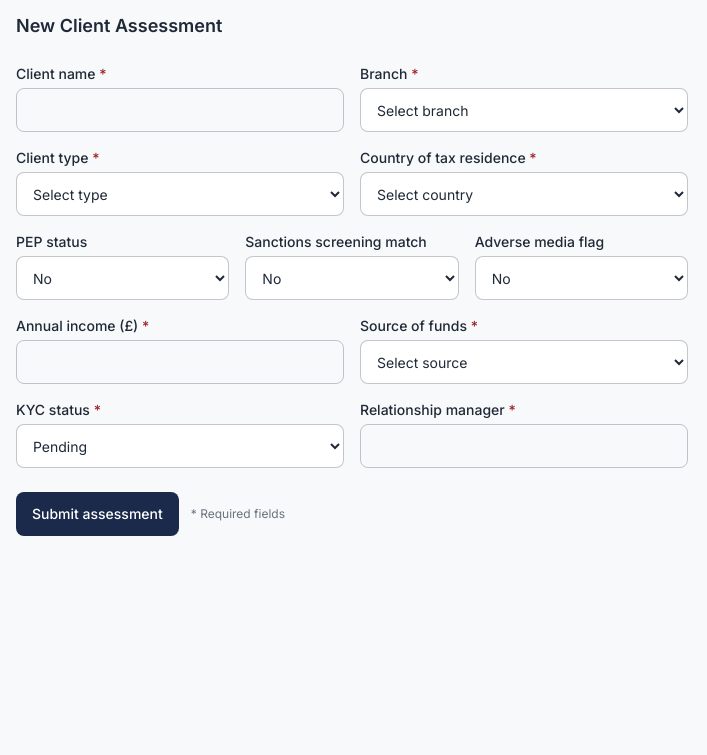
Test: IntakeForm — EDD enforcement › EDD notice disappears when risk drops below HIGH
The width and height of the screenshot is (707, 755).
Select "Russia" in the dropdown labelled "Country of tax residence *" at (524, 194), box [360,172,688,216]
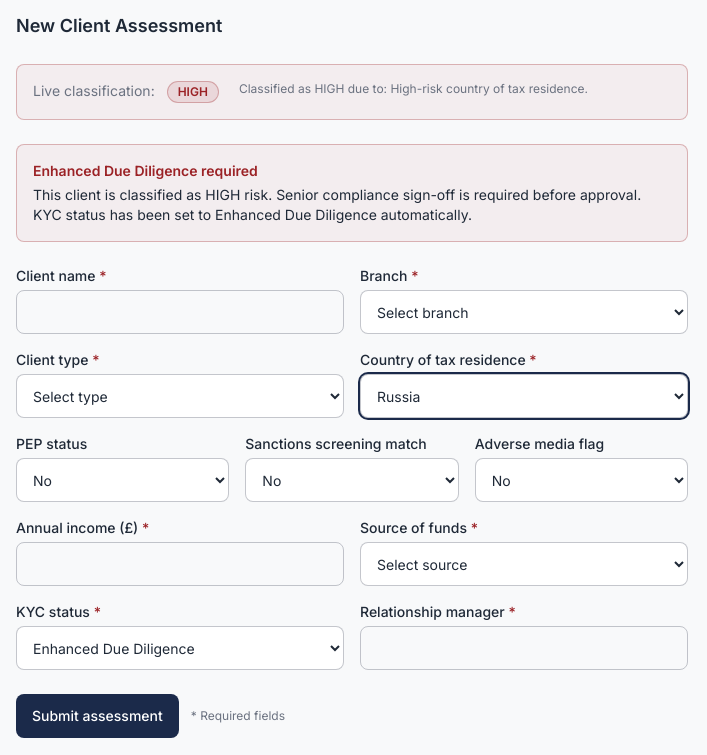
expect the message is shown: met, box [16,144,688,242]
Select "Netherlands" in the dropdown labelled "Country of tax residence *" at (524, 396), box [360,374,688,418]
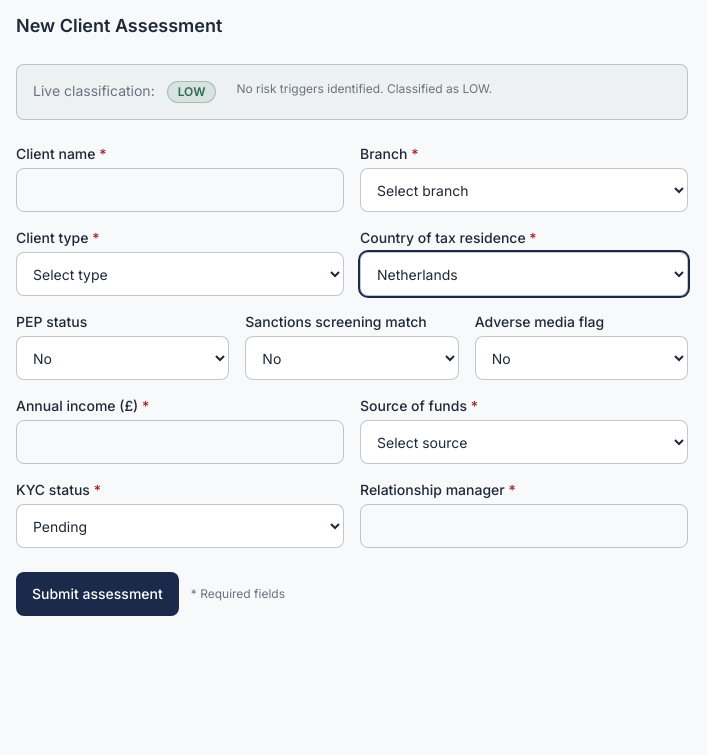
expect the text "Enhanced Due Diligence required" is gone: met
